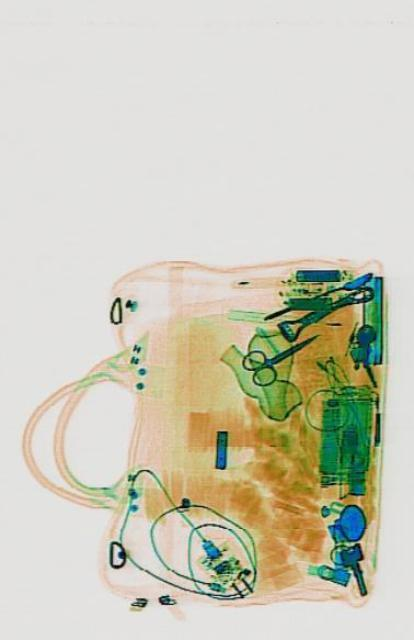Scissors: (237, 314, 326, 394)
